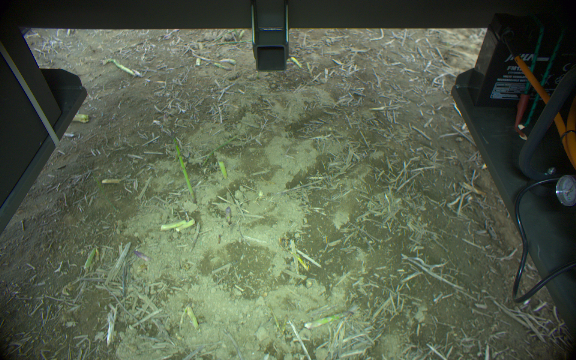aspa: (170, 137, 198, 205), (218, 160, 228, 179)
